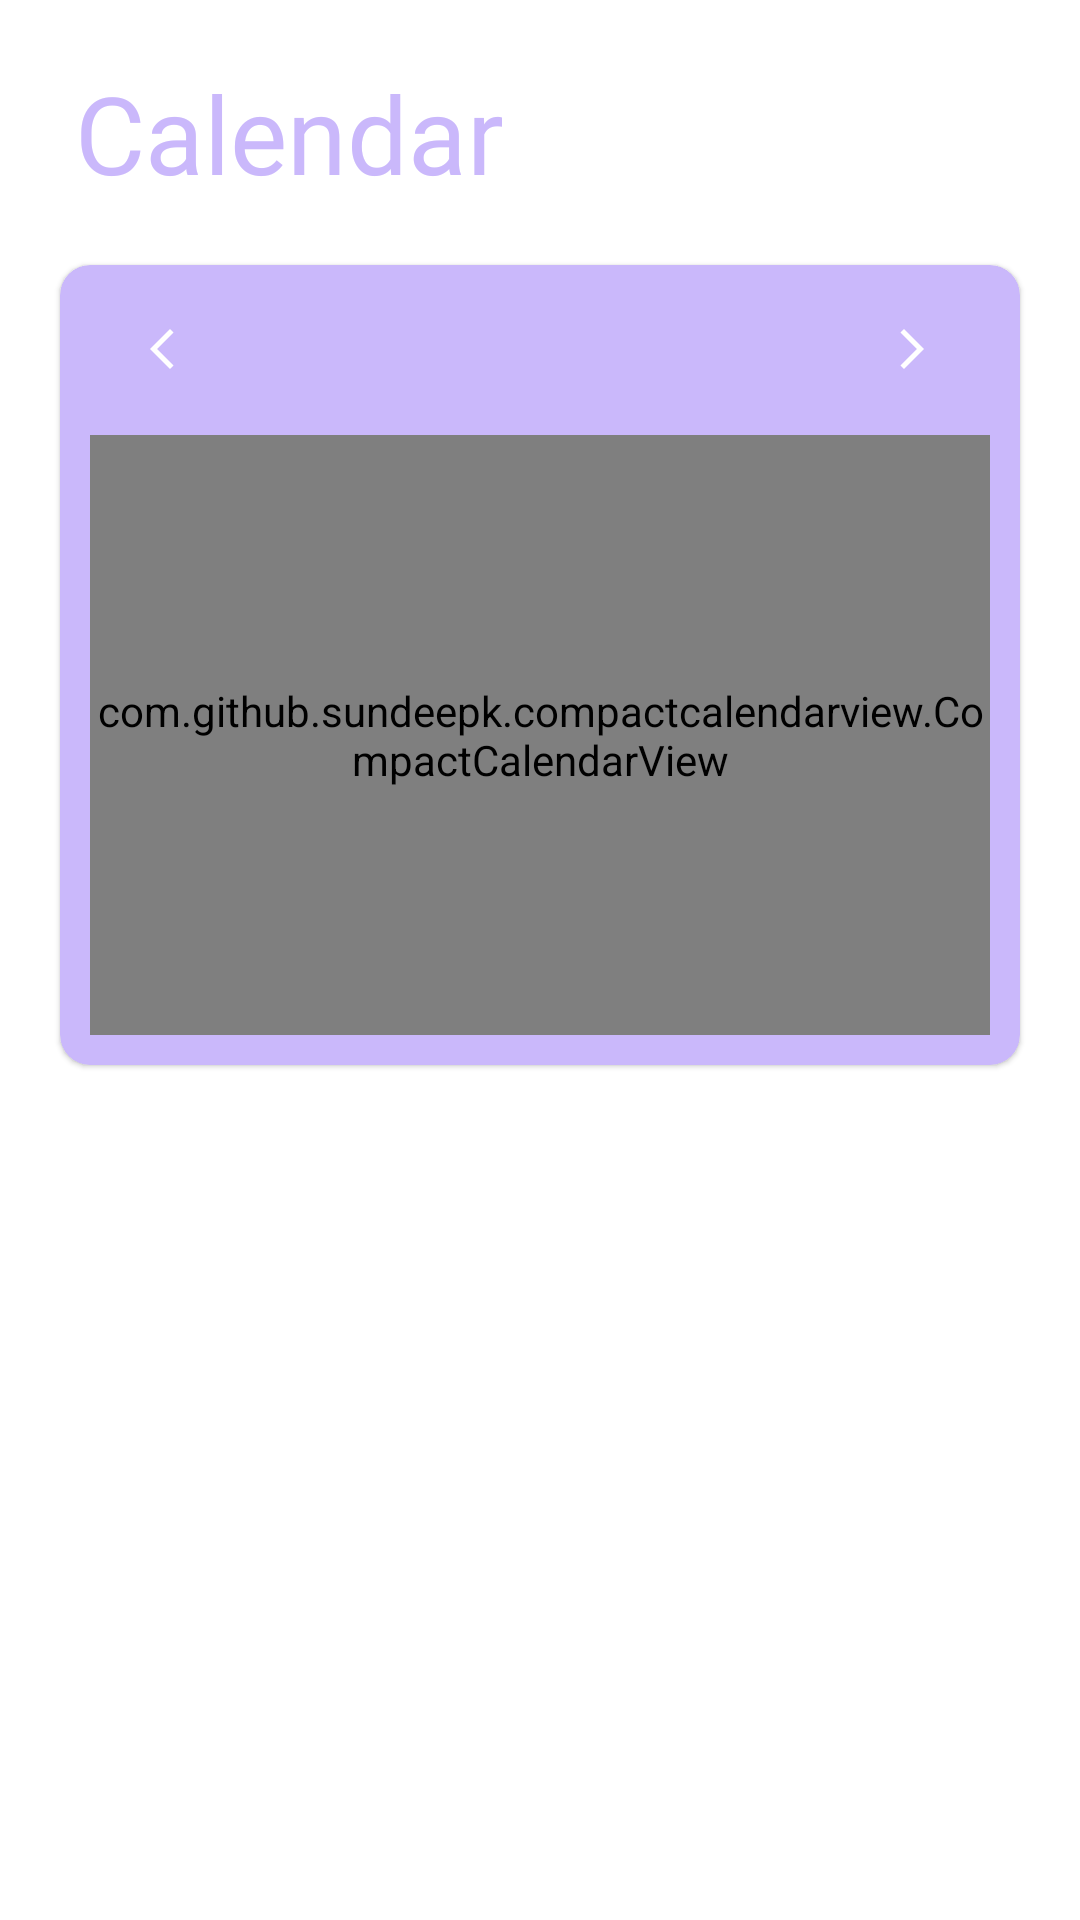

Screen size 1080 x 1920. Icon name, then its box in pixels as {"x1": x1, "y1": y1, "x2": x2, "y2": y2}:
back: {"x1": 150, "y1": 329, "x2": 173, "y2": 369}
front: {"x1": 901, "y1": 329, "x2": 924, "y2": 369}
